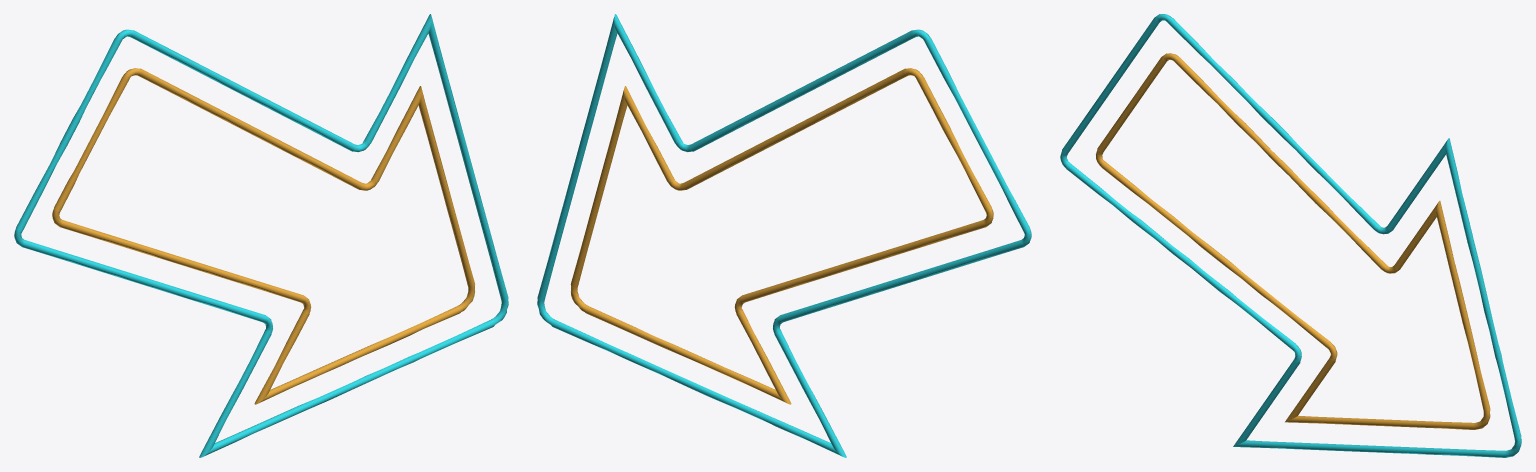
Rendered from Arrow2.fbx.
3 views of the same model, side by side, from view 1: azimuth 30°, elevation 25°; view 2: azimuth 150°, elevation 25°; view 3: azimuth 330°, elevation 25° (orthographic). The views are drawn at different scales.
Visible parts, largest first — view 1: Sweep [45598]; view 2: Sweep [45598]; view 3: Sweep [45598].
Boxes of the visible parts, x1,y1,x2,y2 form: Sweep [45598]: (14, 14, 508, 457); Sweep [45598]: (537, 14, 1031, 457); Sweep [45598]: (1060, 14, 1521, 457).
Size of the model in its own units: 148 by 127 by 2.
